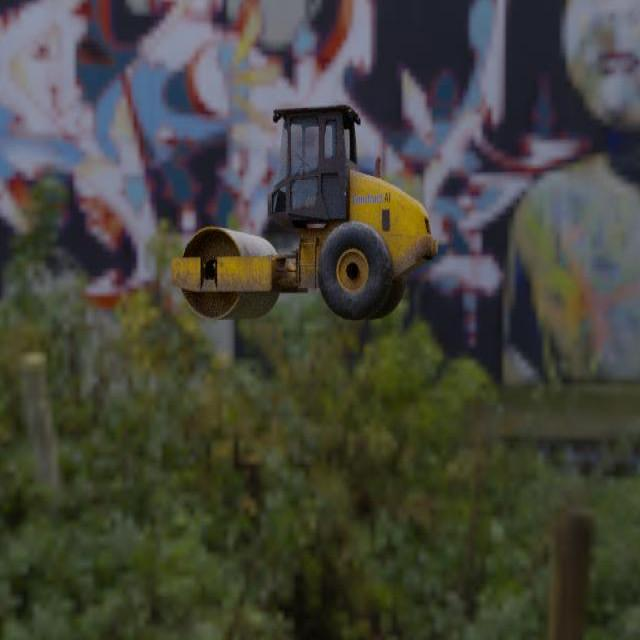Roller: (171, 103, 438, 321)
